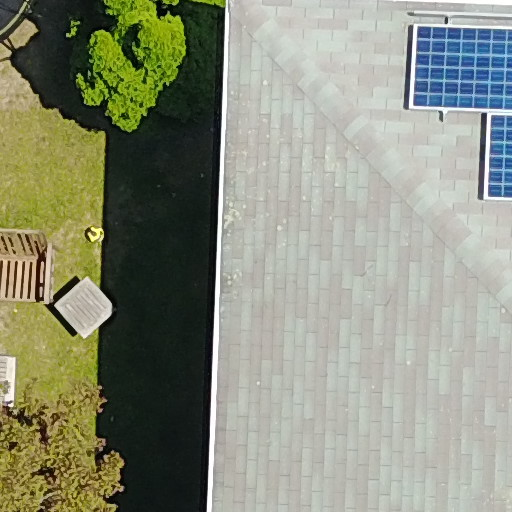toy: (85, 221, 109, 247)
